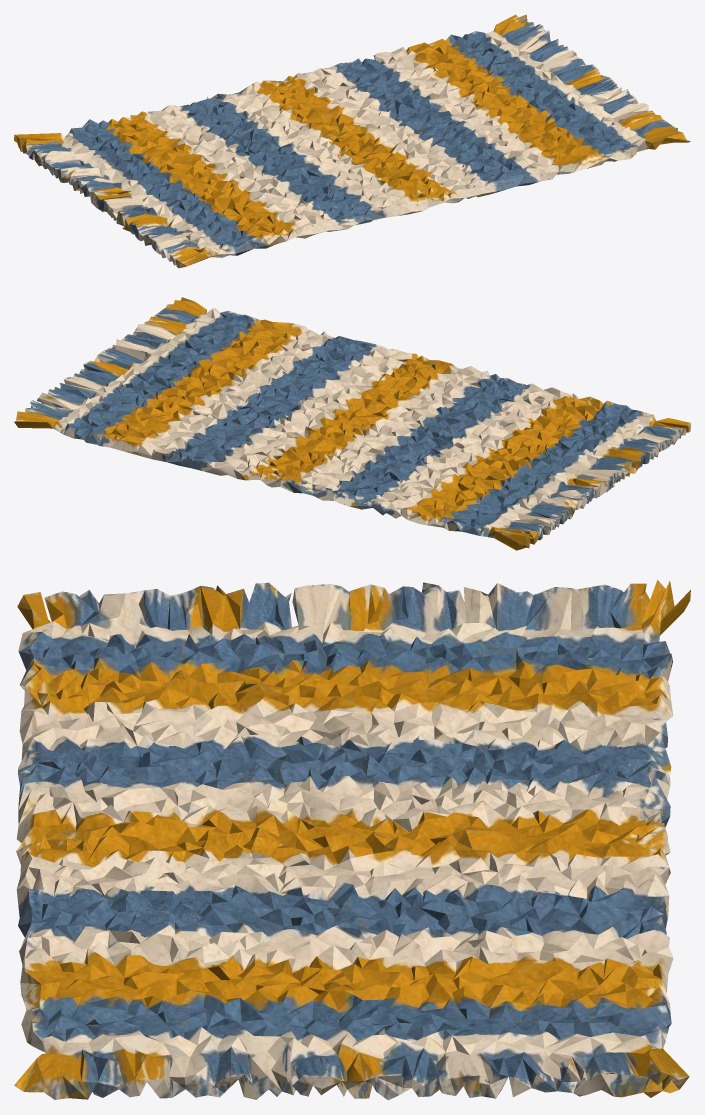
File: props_matto.glb
The picture shows the model from 3 angles, top to bottom: view 1: azimuth 30°, elevation 25°; view 2: azimuth 150°, elevation 25°; view 3: azimuth 270°, elevation 25°; orthographic projection. The views are drawn at different scales.
Visible parts, largest first — view 1: output_unwrapped; view 2: output_unwrapped; view 3: output_unwrapped.
Boxes of the visible parts, x1,y1,x2,y2 form: output_unwrapped: (14,14,690,268); output_unwrapped: (14,297,690,550); output_unwrapped: (14,580,690,1100).
Bounding box in the file's own units: 0.55 × 0.0174 × 0.3191.
1 material, 1 textured.
